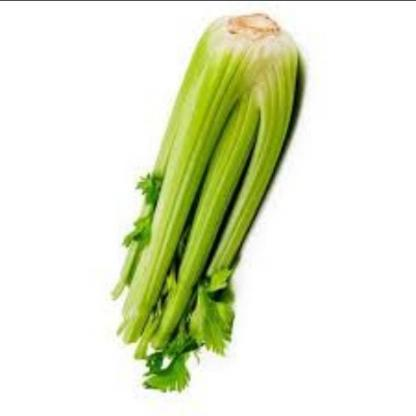celery: (105, 11, 310, 402)
